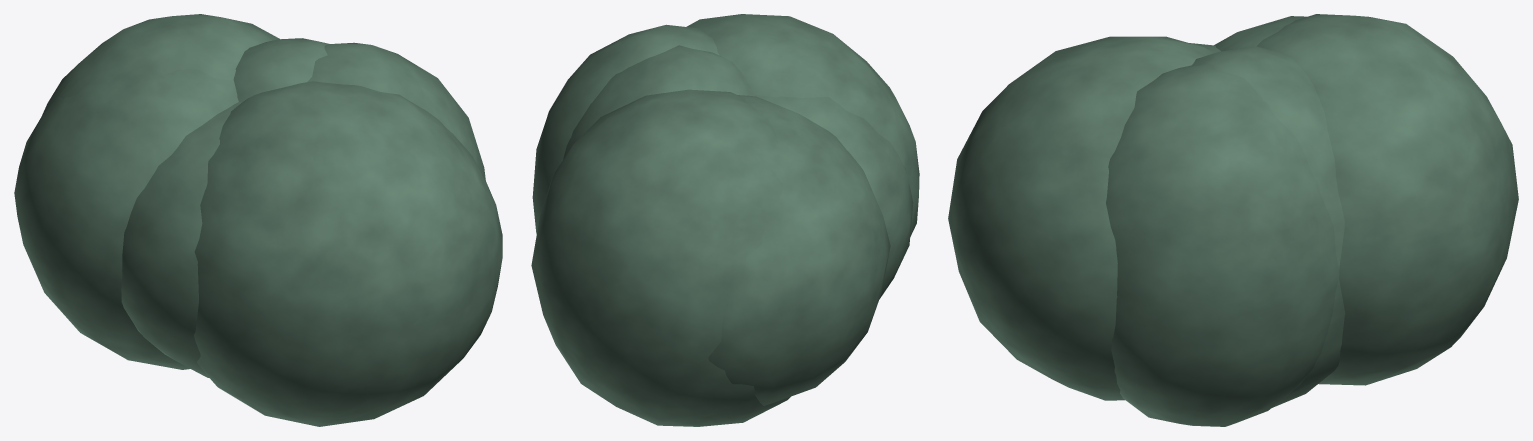
File: pv_hromada_med.glb
The picture shows the model from 3 angles, left to right: view 1: azimuth 30°, elevation 25°; view 2: azimuth 150°, elevation 25°; view 3: azimuth 270°, elevation 25°; orthographic projection. The views are drawn at different scales.
Parts seen in each view (by area): view 1: dum; view 2: dum; view 3: dum.
Boxes of the visible parts, x1,y1,x2,y2 form: dum: [14, 14, 502, 426]; dum: [531, 14, 919, 426]; dum: [948, 14, 1518, 426].
Bounding box in the file's own units: 9.32 × 7.64 × 11.42.
1 material, 1 textured.
